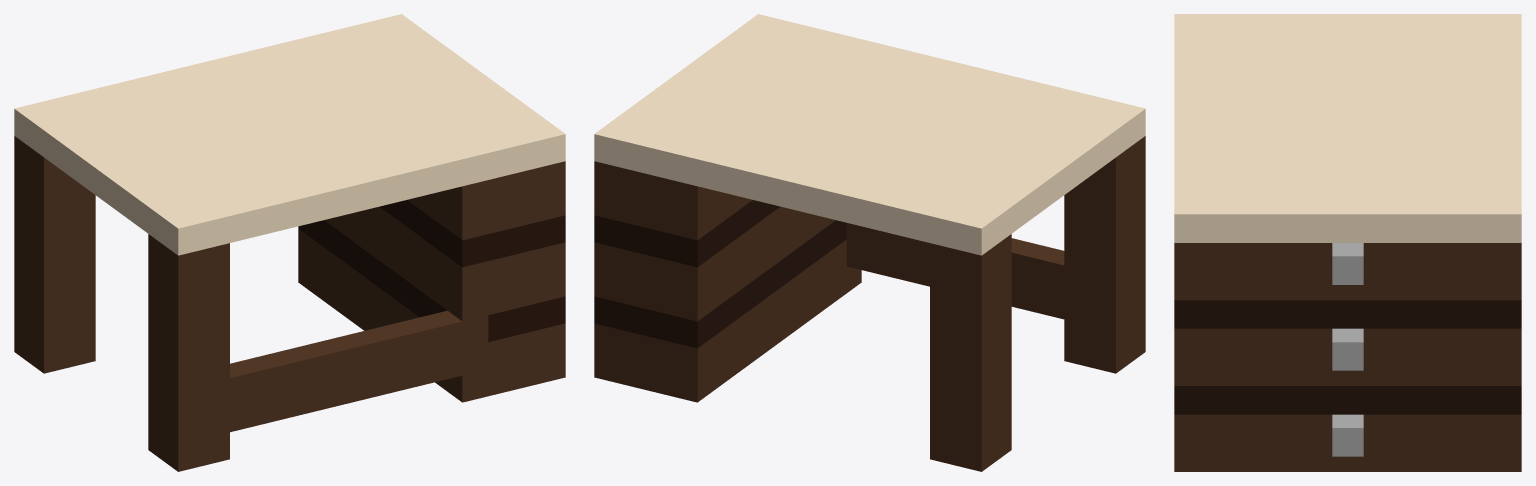
File: chair.gltf
The picture shows the model from 3 angles, left to right: view 1: azimuth 30°, elevation 25°; view 2: azimuth 150°, elevation 25°; view 3: azimuth 270°, elevation 25°; orthographic projection. The views are drawn at different scales.
Parts seen in each view (by area): view 1: Layer.1; view 2: Layer.1; view 3: Layer.1.
Part boxes in pixels (left/top/right/bottom): Layer.1: left=14, top=14, right=565, bottom=471; Layer.1: left=594, top=14, right=1145, bottom=471; Layer.1: left=1174, top=14, right=1521, bottom=471.
Bounding box in the file's own units: 16 × 9 × 11.
1 material, 1 textured.
